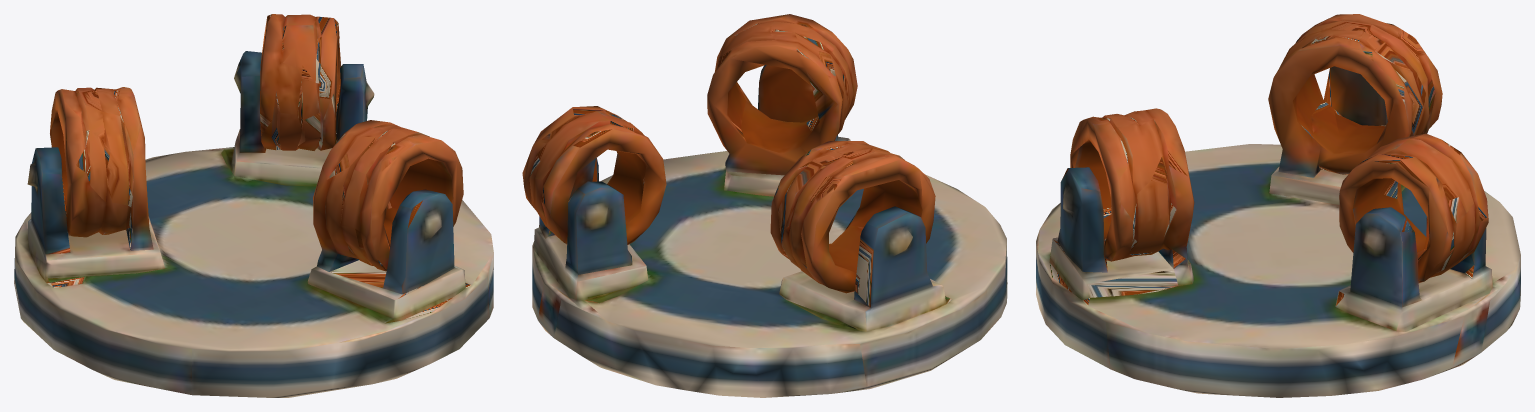
Rendered from ferraris-coils.lod.glb.
The picture shows the model from 3 angles, left to right: view 1: azimuth 30°, elevation 25°; view 2: azimuth 150°, elevation 25°; view 3: azimuth 270°, elevation 25°; orthographic projection. The views are drawn at different scales.
Visible parts, largest first — view 1: textured_mesh.obj; view 2: textured_mesh.obj; view 3: textured_mesh.obj.
Boxes of the visible parts, x1,y1,x2,y2 form: textured_mesh.obj: (14, 14, 493, 397); textured_mesh.obj: (522, 14, 1007, 397); textured_mesh.obj: (1036, 14, 1520, 397).
Size of the model in its own units: 2.09 by 0.9922 by 2.09.
Materials: 1 (1 with a texture image).
